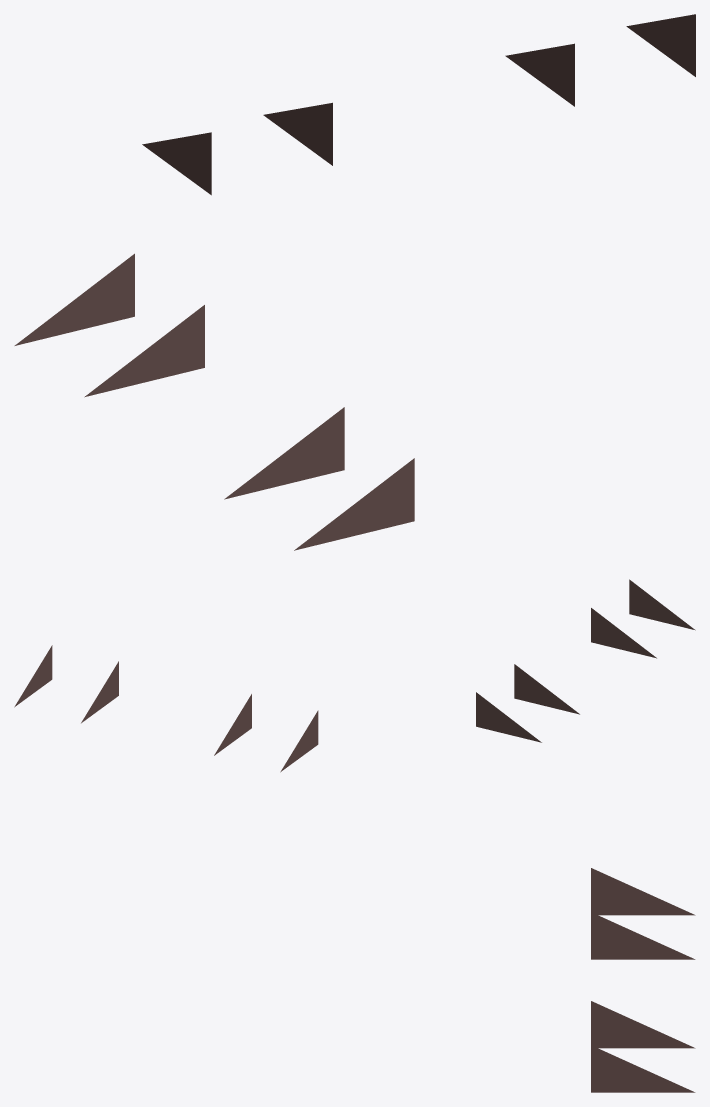
Rendered from ramp_walls.fbx.
3 renders of one model, top to bottom at view 1: azimuth 30°, elevation 25°; view 2: azimuth 150°, elevation 25°; view 3: azimuth 270°, elevation 25°, orthographic. The views are drawn at different scales.
Parts seen in each view (by area): view 1: Platform.000; view 2: Platform.000; view 3: Platform.000.
Part boxes in pixels (box(x1,y1,x2,y2)): Platform.000: box(14, 14, 695, 550); Platform.000: box(14, 579, 695, 772); Platform.000: box(591, 868, 695, 1092).
Size of the model in its own units: 3900 by 300 by 3900.
